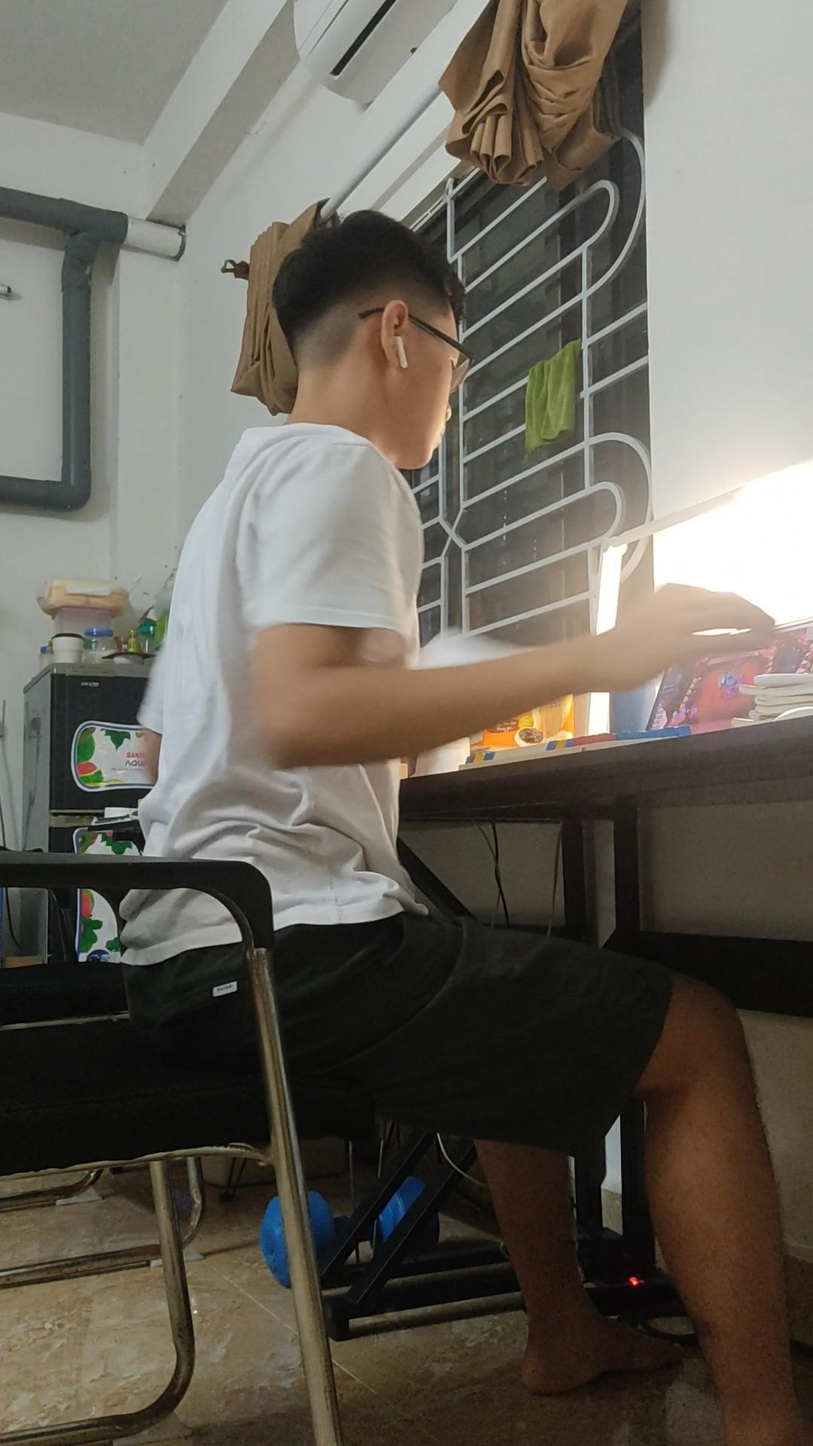GoodPosture: (142, 213, 812, 1445)
